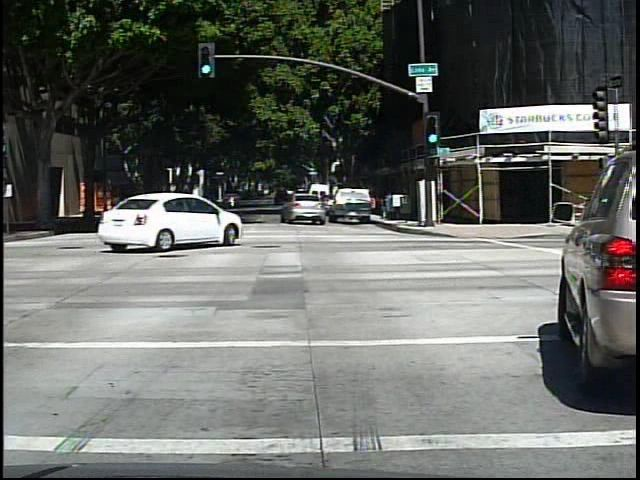person: (107, 186, 123, 221)
